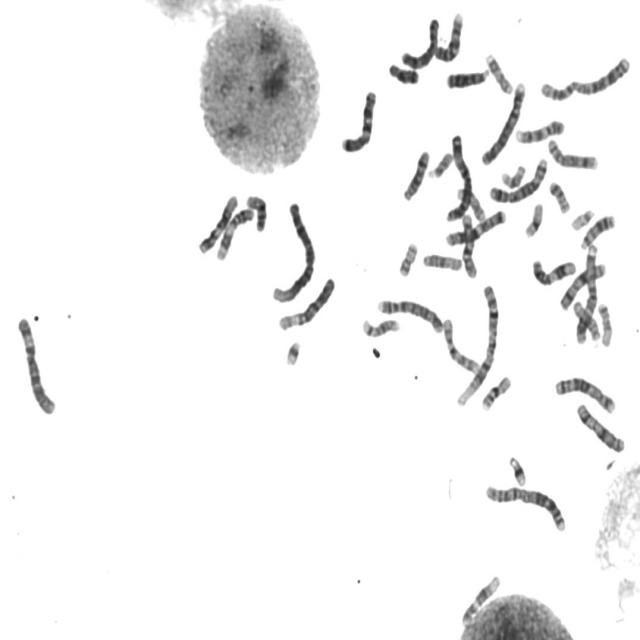A1: (453, 278, 500, 410), (269, 197, 317, 305)
A2: (536, 51, 633, 102), (481, 478, 568, 533)
A3: (443, 128, 474, 224), (573, 240, 601, 346)
B4: (478, 76, 528, 167), (375, 294, 444, 335)
B5: (486, 153, 550, 205), (552, 372, 618, 416)
C10: (434, 312, 487, 379), (458, 210, 478, 280)
C11: (213, 203, 255, 262), (530, 254, 578, 287)
C12: (196, 189, 240, 256), (458, 570, 503, 627)
C6: (13, 311, 58, 416), (275, 272, 337, 332)
C7: (442, 205, 508, 248), (338, 85, 378, 155)
C8: (557, 263, 609, 313), (545, 134, 600, 172)
C9: (432, 8, 465, 64), (513, 115, 566, 145)
D13: (578, 210, 616, 251), (442, 62, 492, 90)
D14: (400, 145, 432, 202), (358, 313, 402, 338)
D15: (569, 295, 603, 342), (419, 248, 464, 272)
E16: (478, 372, 514, 412), (244, 190, 268, 233)
E17: (482, 49, 514, 95), (454, 183, 486, 224)
E18: (595, 300, 616, 351), (386, 58, 420, 86)
F19: (497, 159, 528, 191), (522, 199, 544, 240)
F20: (546, 176, 572, 215), (396, 238, 419, 278)
G21: (506, 450, 528, 488), (282, 336, 302, 368)
G22: (425, 148, 454, 180), (567, 204, 596, 232)
X: (574, 399, 627, 454), (398, 13, 440, 70)
